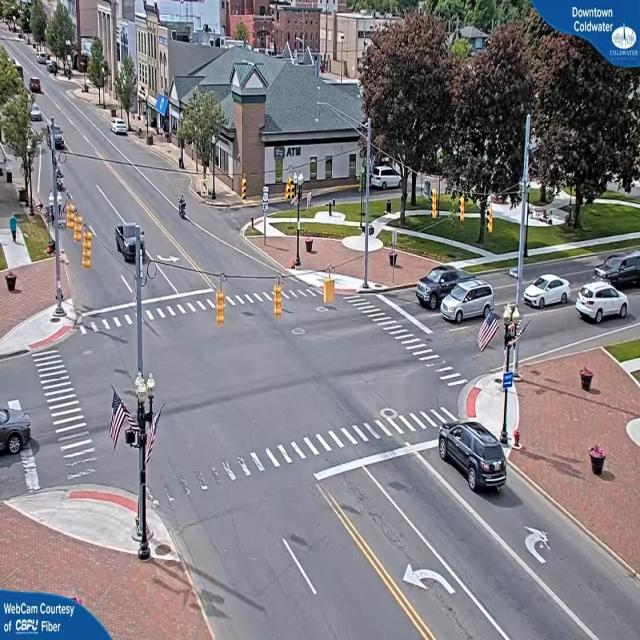car: (439, 420, 509, 494), (575, 280, 631, 325), (440, 283, 496, 324), (0, 402, 32, 460), (524, 272, 570, 308), (416, 259, 450, 307), (602, 252, 640, 290), (116, 223, 145, 261), (112, 120, 130, 138), (30, 80, 42, 96)
